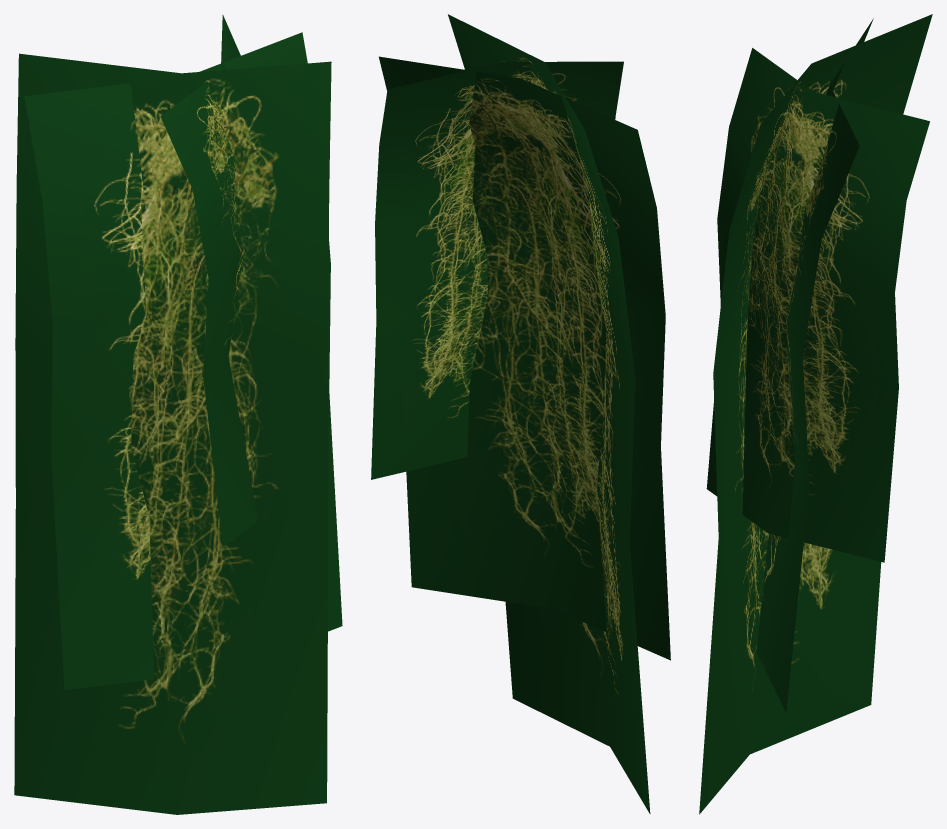
File: Model_HangingPlant_02.fbx
The picture shows the model from 3 angles, left to right: view 1: azimuth 30°, elevation 25°; view 2: azimuth 150°, elevation 25°; view 3: azimuth 270°, elevation 25°; orthographic projection.
Visible parts, largest first — view 1: Hanging_02; view 2: Hanging_02; view 3: Hanging_02.
Part boxes in pixels (x1,y1,x2,y2): Hanging_02: [14, 14, 342, 814]; Hanging_02: [371, 14, 670, 814]; Hanging_02: [699, 14, 932, 814].
Size of the model in its own units: 74.29 by 177 by 52.83.
